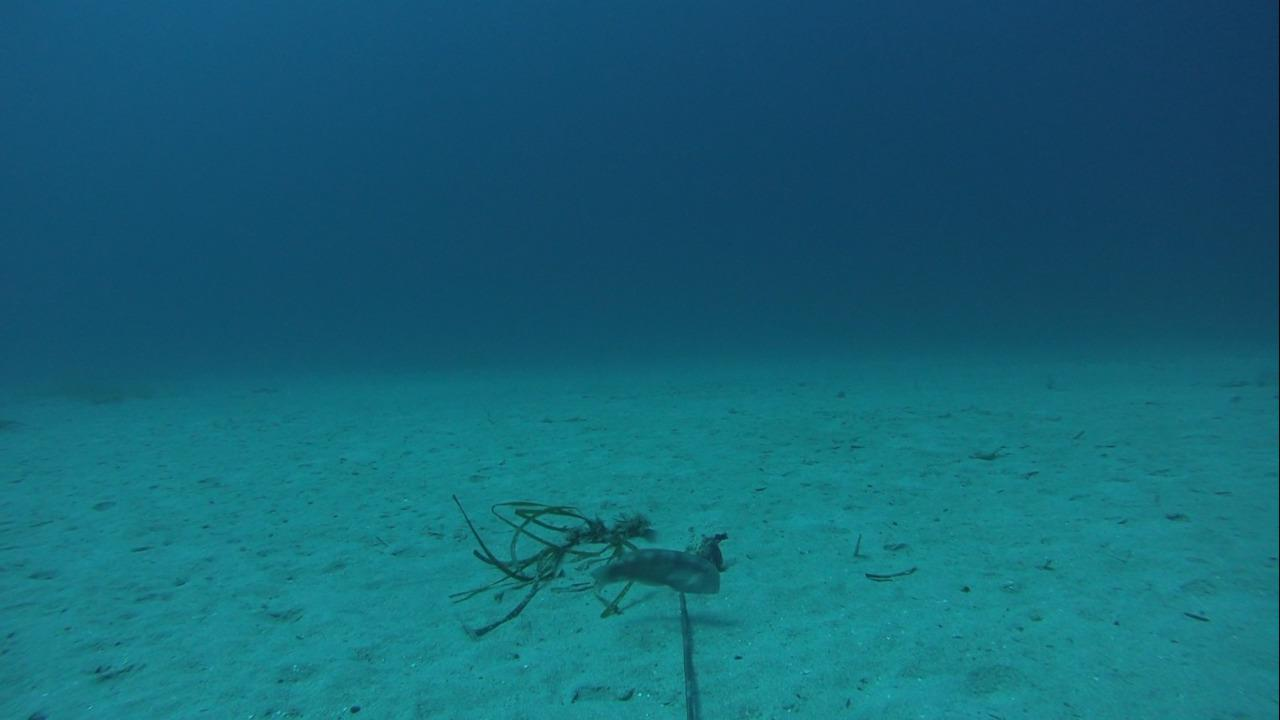raor: (590, 545, 721, 601)
